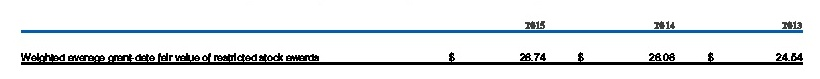table: (0, 0, 820, 79)
